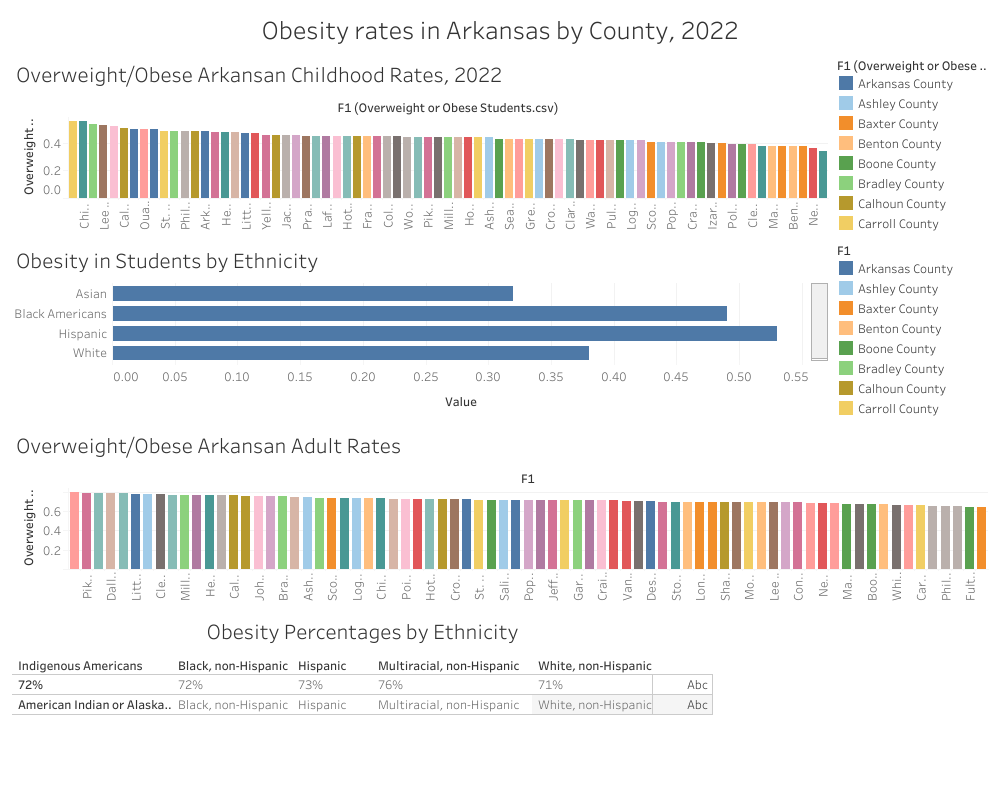

What the dashboard file says about the page in this screenshot:
{"tool":"tableau","page":{"name":"Obesity Rates, 2022","canvas":[1000,800],"ordinal":1},"visuals":[{"type":"title","box":[8,8,984,42]},{"type":"worksheet","title":"Overweight/Obese Arkansan Childhood Rates, 2022","mark":"Automatic","rows":["F2 (Overweight or Obese Students.csv)"],"cols":["F1 (Overweight or Obese Students.csv)"],"box":[8,50,824,185.5]},{"type":"legend","title":"Overweight/Obese Arkansan Childhood Rates, 2022","param":"[federated.0bdceje0cfmo6j1ebceeh0teqto1].[none:F1 (Overweight or Obese Students.","box":[832,50,160,185.5]},{"type":"worksheet","title":"Obesity in Students by Ethnicity","mark":"Automatic","box":[8,235.5,824,185.5]},{"type":"legend","title":"Overweight/Obese Arkansan Adult Rates","param":"[federated.0bdceje0cfmo6j1ebceeh0teqto1].[none:F1:nk]","box":[832,235.5,160,185.5]},{"type":"worksheet","title":"Overweight/Obese Arkansan Adult Rates","mark":"Automatic","rows":["F2"],"cols":["F1"],"box":[8,421,984,185.5]},{"type":"worksheet","title":"Sheet 15","mark":"Automatic","rows":["F2","F3","F4","F5","F6"],"box":[8,606.5,984,185.5]}]}

Visuals, with their boxes in screenshot pixels (x1, y1, x2, y2), scaled from the page's 1000x800 canvas onto the 999x799 screenshot:
title: x1=8 y1=8 x2=991 y2=50
"Overweight/Obese Arkansan Childhood Rates, 2022" worksheet: x1=8 y1=50 x2=831 y2=235
"Overweight/Obese Arkansan Childhood Rates, 2022" legend: x1=831 y1=50 x2=991 y2=235
"Obesity in Students by Ethnicity" worksheet: x1=8 y1=235 x2=831 y2=420
"Overweight/Obese Arkansan Adult Rates" legend: x1=831 y1=235 x2=991 y2=420
"Overweight/Obese Arkansan Adult Rates" worksheet: x1=8 y1=420 x2=991 y2=606
"Sheet 15" worksheet: x1=8 y1=606 x2=991 y2=791
